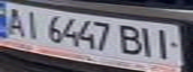4: (60, 16, 81, 47), (78, 18, 96, 50)
6: (42, 12, 66, 44)
7: (93, 19, 118, 52)
A: (0, 4, 30, 37)
B: (115, 21, 145, 56)
I: (145, 25, 181, 60), (18, 8, 45, 39)
